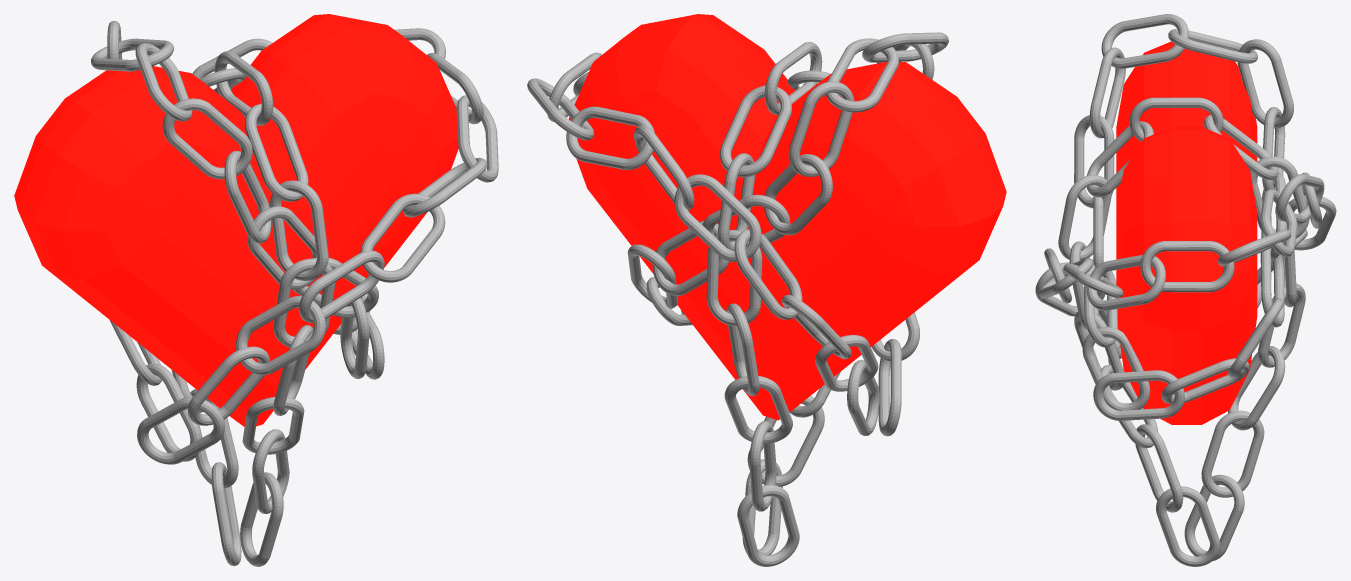
File: chained-heart.glb
3 views of the same model, side by side, from view 1: azimuth 30°, elevation 25°; view 2: azimuth 150°, elevation 25°; view 3: azimuth 270°, elevation 25° (orthographic). The views are drawn at different scales.
Parts seen in each view (by area): view 1: Heart, Chain.002, Chain.001, Chain.005, Chain.007, Chain.009, Chain.008, Chain.006, Chain.003, Chain.010, Chain.004, Chain.017 (+3 smaller); view 2: Heart, Chain.002, Chain.001, Chain.014, Chain.018, Chain.013, Chain.009, Chain.015, Chain.011, Chain.016, Chain.010, Chain.012 (+2 smaller); view 3: Heart, Chain.002, Chain.001, Chain.017, Chain.003, Chain.018, Chain.015, Chain.016, Chain.013, Chain.004, Chain.005, Chain.007 (+2 smaller).
Boxes of the visible parts, left/top/right/bottom form: Heart: left=14, top=14, right=458, bottom=426; Chain.002: left=171, top=51, right=335, bottom=566; Chain.001: left=91, top=20, right=384, bottom=379; Chain.005: left=360, top=193, right=445, bottom=282; Chain.007: left=236, top=296, right=325, bottom=375; Chain.009: left=137, top=397, right=224, bottom=464; Chain.008: left=187, top=346, right=269, bottom=425; Chain.006: left=298, top=250, right=384, bottom=322; Chain.003: left=456, top=95, right=498, bottom=182; Chain.010: left=136, top=363, right=201, bottom=461; Chain.004: left=402, top=157, right=487, bottom=217; Chain.017: left=427, top=53, right=483, bottom=124; Heart: left=569, top=14, right=1006, bottom=420; Chain.002: left=706, top=42, right=840, bottom=566; Chain.001: left=627, top=32, right=948, bottom=325; Chain.014: left=674, top=174, right=761, bottom=261; Chain.018: left=566, top=106, right=654, bottom=170; Chain.013: left=734, top=229, right=802, bottom=319; Chain.009: left=878, top=339, right=901, bottom=436; Chain.015: left=634, top=125, right=694, bottom=210; Chain.011: left=815, top=335, right=878, bottom=391; Chain.016: left=527, top=78, right=594, bottom=140; Chain.010: left=847, top=360, right=879, bottom=435; Chain.012: left=782, top=295, right=851, bottom=359; Heart: left=1116, top=41, right=1257, bottom=424; Chain.002: left=1058, top=97, right=1309, bottom=566; Chain.001: left=1074, top=14, right=1293, bottom=420; Chain.017: left=1140, top=241, right=1234, bottom=292; Chain.003: left=1086, top=255, right=1165, bottom=310; Chain.018: left=1260, top=189, right=1297, bottom=256; Chain.015: left=1275, top=174, right=1324, bottom=224; Chain.016: left=1218, top=229, right=1291, bottom=266; Chain.013: left=1276, top=195, right=1336, bottom=250; Chain.004: left=1063, top=263, right=1123, bottom=298; Chain.005: left=1038, top=258, right=1093, bottom=298; Chain.007: left=1035, top=262, right=1104, bottom=316.
Bounding box in the file's own units: 33.07 × 39.27 × 21.56.
